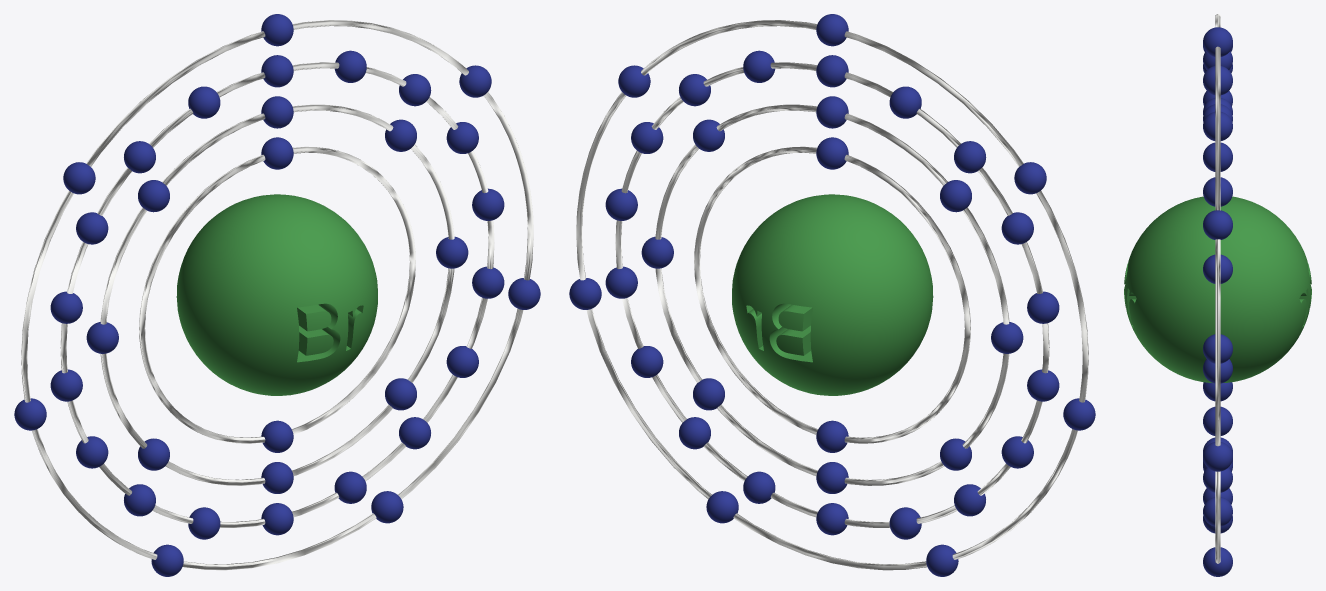
3 renders of one model, left to right at view 1: azimuth 30°, elevation 25°; view 2: azimuth 150°, elevation 25°; view 3: azimuth 270°, elevation 25°, orthographic. The views are drawn at different scales.
Visible parts, largest first — view 1: Body41, Body5, Body3, Body4, Body2, Body35, Body38, Body13, Body11, Body12, Body28, Body32 (+30 smaller); view 2: Body41, Body5, Body3, Body4, Body2, Body35, Body11, Body38, Body13, Body12, Body28, Body21 (+30 smaller); view 3: Body41, Body5, Body40, Body39, Body9, Body38, Body6, Body24, Body25, Body26, Body21, Body8 (+6 smaller).
Part boxes in pixels (<box>): Body41: <box>176,194,377,395</box>; Body5: <box>21,20,533,570</box>; Body3: <box>100,104,454,485</box>; Body4: <box>60,62,494,527</box>; Body2: <box>139,146,415,443</box>; Body35: <box>63,162,95,194</box>; Body38: <box>371,491,403,523</box>; Body13: <box>76,212,108,244</box>; Body11: <box>188,86,220,118</box>; Body12: <box>124,141,155,173</box>; Body28: <box>138,180,169,212</box>; Body32: <box>385,378,416,410</box>; Body41: <box>732,194,933,395</box>; Body5: <box>576,20,1088,570</box>; Body3: <box>655,104,1009,485</box>; Body4: <box>615,62,1049,527</box>; Body2: <box>694,146,970,443</box>; Body35: <box>1014,162,1046,194</box>; Body11: <box>889,86,921,118</box>; Body38: <box>706,491,738,523</box>; Body13: <box>1001,212,1033,244</box>; Body12: <box>954,141,986,173</box>; Body28: <box>940,180,971,212</box>; Body21: <box>679,417,710,449</box>; Body41: <box>1124,196,1311,383</box>; Body5: <box>1215,14,1220,563</box>; Body40: <box>1203,210,1232,239</box>; Body39: <box>1203,442,1232,471</box>; Body9: <box>1203,27,1232,56</box>; Body38: <box>1203,547,1232,576</box>; Body6: <box>1203,142,1232,171</box>; Body24: <box>1203,334,1232,363</box>; Body25: <box>1203,254,1232,283</box>; Body26: <box>1203,177,1232,206</box>; Body21: <box>1203,497,1232,526</box>; Body8: <box>1203,66,1232,95</box>.
Size of the model in its own units: 299 by 299 by 99.95.
